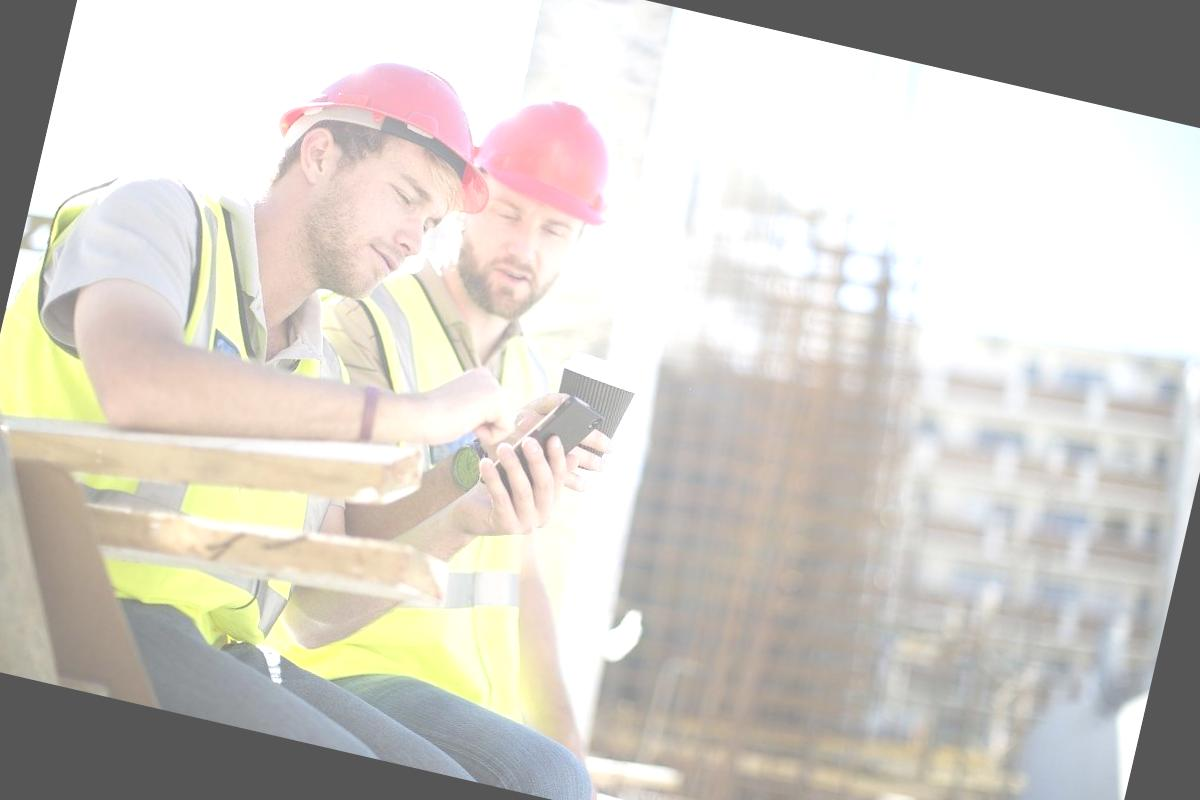helmet: (297, 38, 496, 160), (478, 87, 626, 220)
person: (0, 0, 503, 752), (318, 73, 704, 798)
